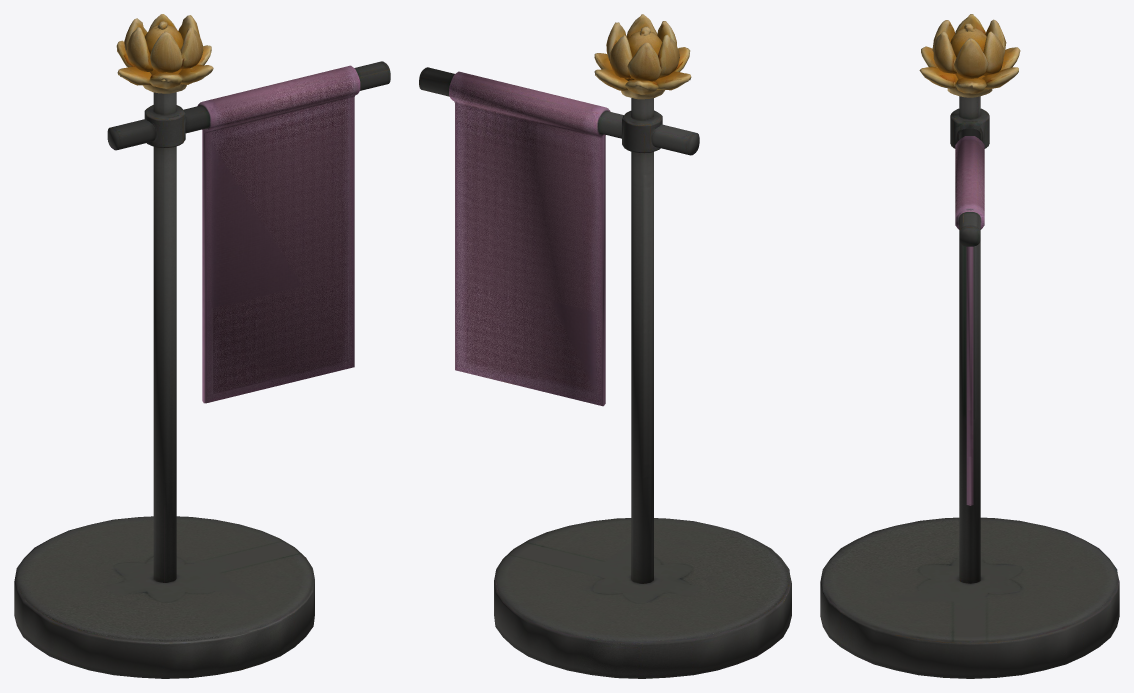
File: tripo_convert_eab02941-dd82-4347-8aad-128fb7b495ad.fbx
3 renders of one model, left to right at view 1: azimuth 30°, elevation 25°; view 2: azimuth 150°, elevation 25°; view 3: azimuth 270°, elevation 25°, orthographic.
Visible parts, largest first — view 1: tripo_node_eab02941; view 2: tripo_node_eab02941; view 3: tripo_node_eab02941.
Boxes of the visible parts, x1=… form: tripo_node_eab02941: x1=14, y1=14, x2=390, y2=678; tripo_node_eab02941: x1=419, y1=14, x2=791, y2=678; tripo_node_eab02941: x1=820, y1=14, x2=1119, y2=678.
Bounding box in the file's own units: 0.6152 × 0.998 × 0.459.
1 material, 1 textured.
